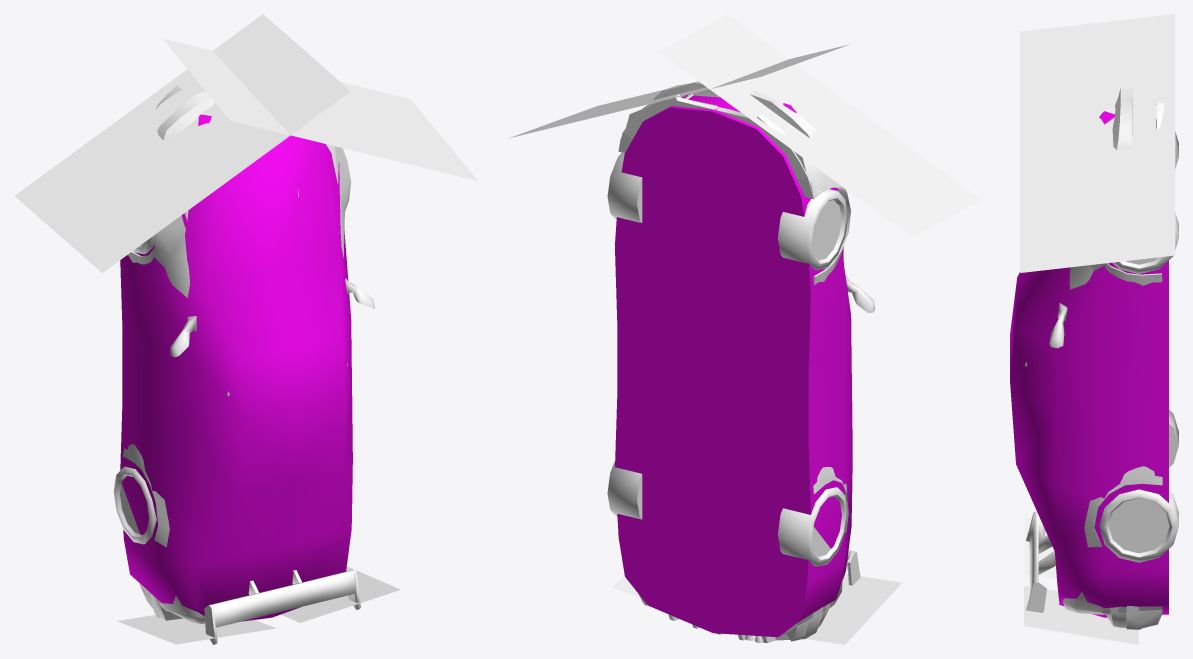
Rendered from Nissan.glb.
3 views of the same model, side by side, from view 1: azimuth 30°, elevation 25°; view 2: azimuth 150°, elevation 25°; view 3: azimuth 270°, elevation 25° (orthographic). The views are drawn at different scales.
Visible parts, largest first — view 1: NissanProxy, NissanFrontLights, Nissan, NissanSpoiler1, NissanRearLights, NissanWheel_LB, NissanFrontBumper2; view 2: NissanProxy, NissanFrontLights, NissanFrontBumper2, NissanWheel_LF, NissanRearLights, NissanWheel_LB, NissanWheel_RF, NissanWheel_RB, Nissan, NissanRearBumper2; view 3: NissanProxy, NissanFrontLights, NissanWheel_RB, Nissan, NissanRearLights, NissanSpoiler1, NissanFrontBumper2, NissanRearBumper2, NissanWheel_RF, NissanWheel_LB.
Part boxes in pixels (x1,y1,x2,y2): NissanProxy: (120, 114, 352, 621); NissanFrontLights: (15, 14, 478, 272); Nissan: (123, 144, 374, 623); NissanSpoiler1: (204, 569, 360, 644); NissanRearLights: (117, 566, 400, 644); NissanWheel_LB: (113, 466, 156, 544); NissanFrontBumper2: (156, 86, 214, 140); NissanProxy: (615, 94, 852, 637); NissanFrontLights: (509, 14, 980, 237); NissanFrontBumper2: (618, 82, 842, 199); NissanWheel_LF: (777, 189, 848, 270); NissanRearLights: (612, 573, 901, 644); NissanWheel_LB: (778, 487, 848, 566); NissanWheel_RF: (607, 152, 642, 222); NissanWheel_RB: (607, 460, 642, 519); Nissan: (785, 187, 875, 632); NissanRearBumper2: (639, 595, 834, 642); NissanProxy: (1010, 111, 1168, 617); NissanFrontLights: (1020, 14, 1175, 272); NissanWheel_RB: (1099, 489, 1178, 562); Nissan: (1025, 263, 1162, 614); NissanRearLights: (1024, 516, 1138, 644); NissanSpoiler1: (1026, 511, 1055, 612); NissanFrontBumper2: (1112, 87, 1164, 149); NissanRearBumper2: (1101, 606, 1162, 629); NissanWheel_RF: (1112, 212, 1178, 273); NissanWheel_LB: (1169, 410, 1178, 467).
Bounding box in the file's own units: 3.91 × 5.39 × 1.45.
